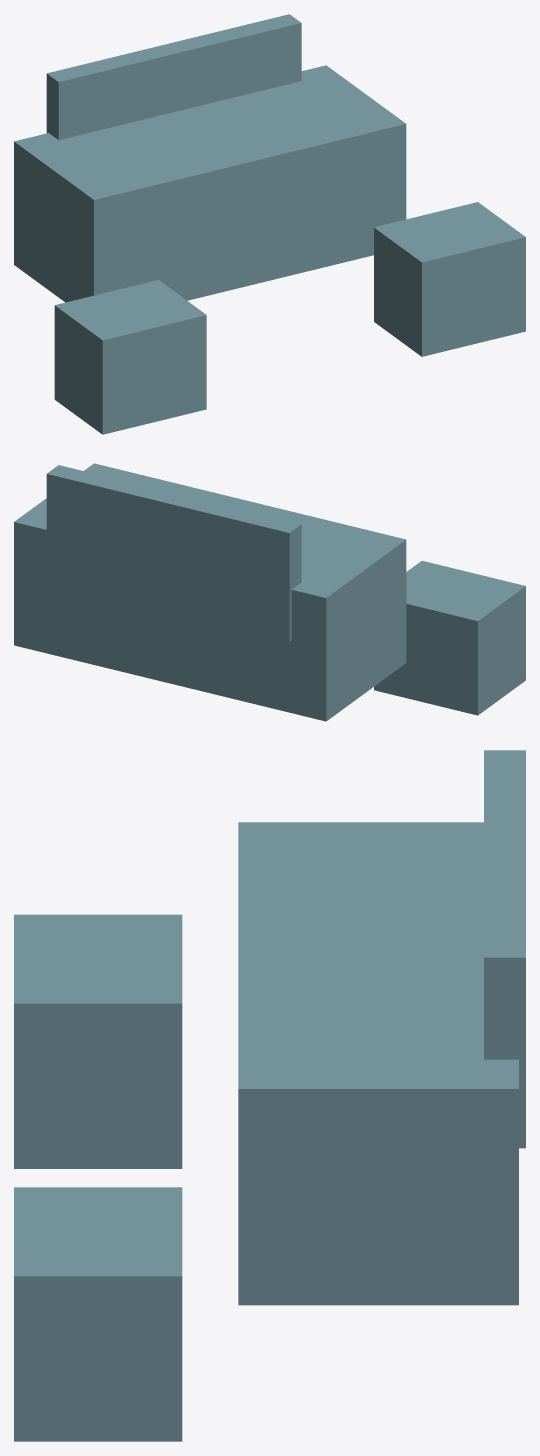
Rendered from SM_Int_CommandBridge_Console.fbx.
3 renders of one model, top to bottom at view 1: azimuth 30°, elevation 25°; view 2: azimuth 150°, elevation 25°; view 3: azimuth 270°, elevation 25°, orthographic. The views are drawn at different scales.
Parts seen in each view (by area): view 1: SM_Int_CommandBridge_Console; view 2: SM_Int_CommandBridge_Console; view 3: SM_Int_CommandBridge_Console.
Boxes of the visible parts, x1,y1,x2,y2 form: SM_Int_CommandBridge_Console: [14, 14, 525, 434]; SM_Int_CommandBridge_Console: [14, 463, 525, 721]; SM_Int_CommandBridge_Console: [14, 750, 525, 1441].
Bounding box in the file's own units: 122 × 73 × 64.
